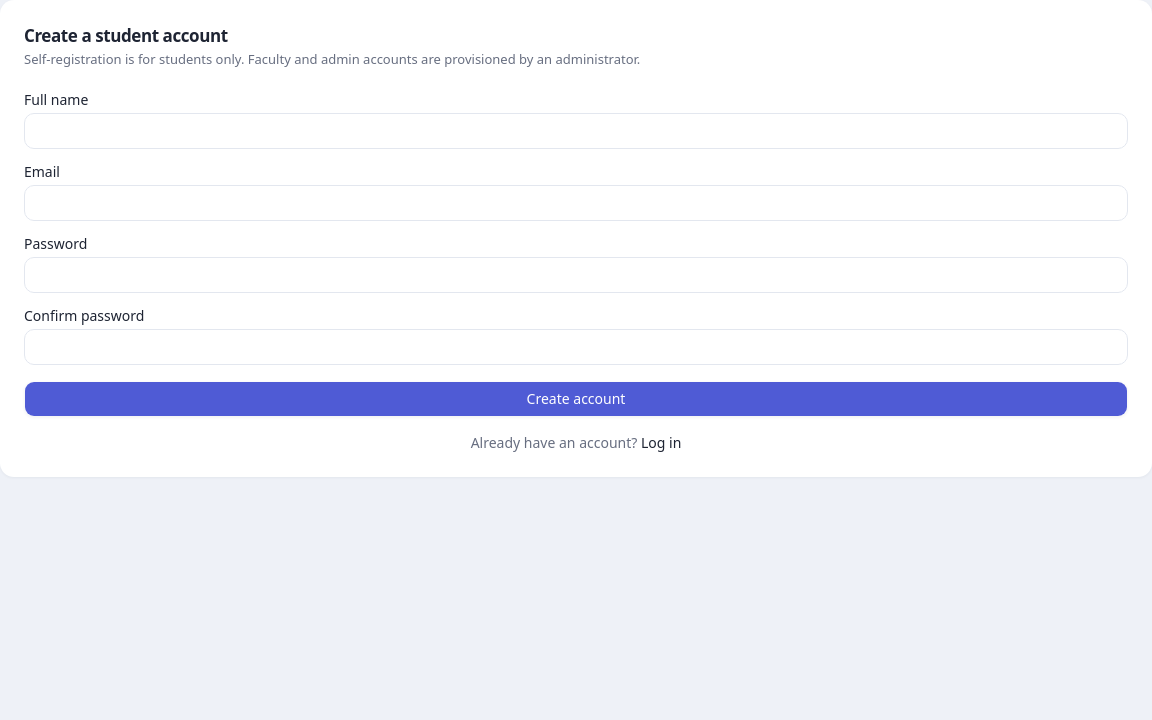
Test: RegisterPage form validation › rejects a mismatched confirm-password
This screenshot has width=1152, height=720.
Type "Ada Lovelace" into the field labelled "Full name".
click(576, 131); type("Ada Lovelace")  # box [24, 113, 1128, 149]
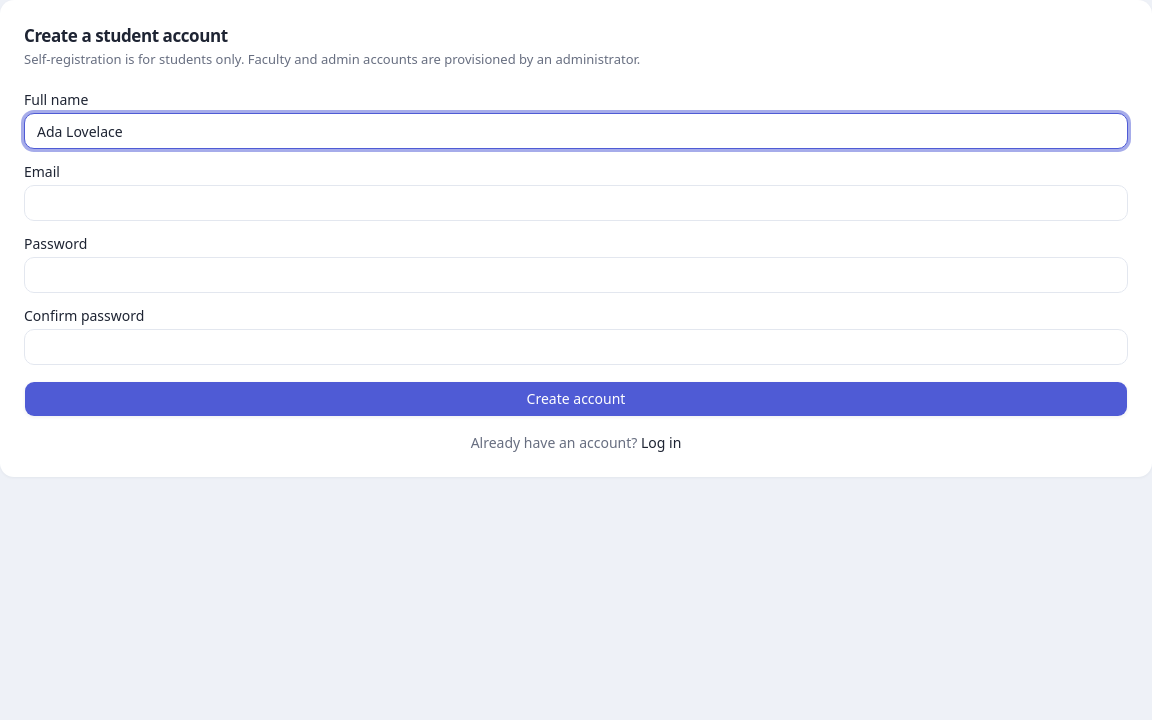
Type "ada@example.com" into the field labelled "Email".
click(576, 203); type("ada@example.com")  # box [24, 185, 1128, 221]
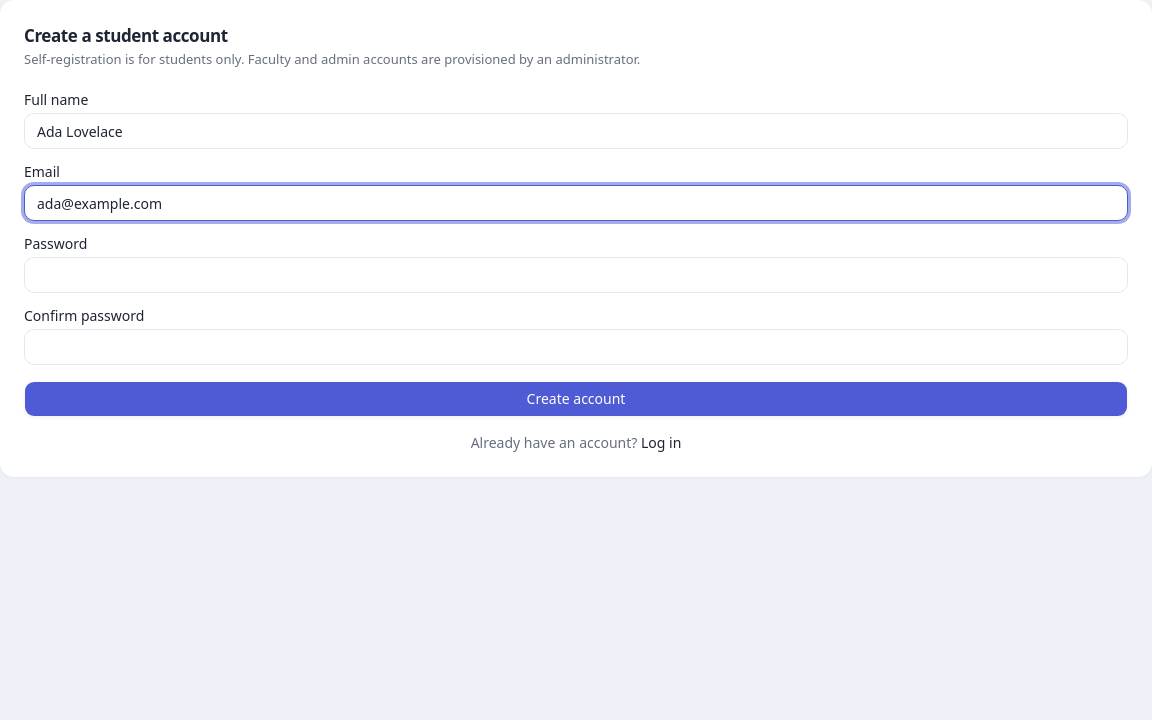
Type "password123" into the password field labelled "Password".
click(576, 275); type("password123")  # box [24, 257, 1128, 293]
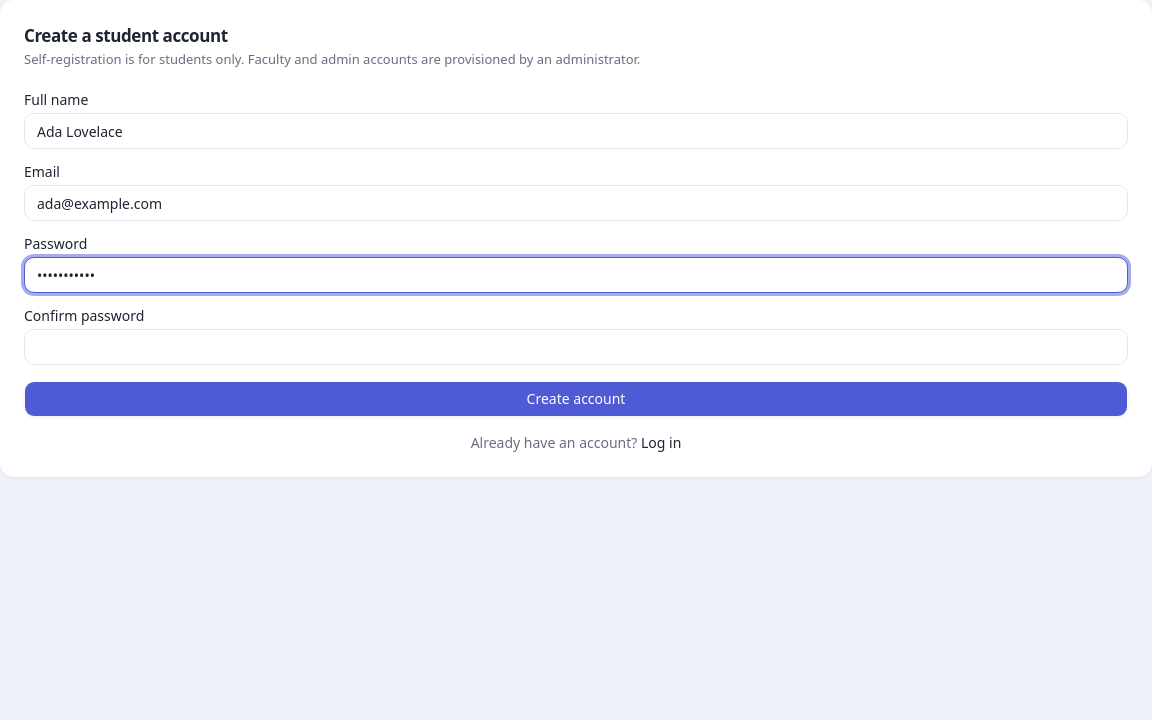
Type "password124" into the password field labelled "Confirm password".
click(576, 347); type("password124")  # box [24, 329, 1128, 365]
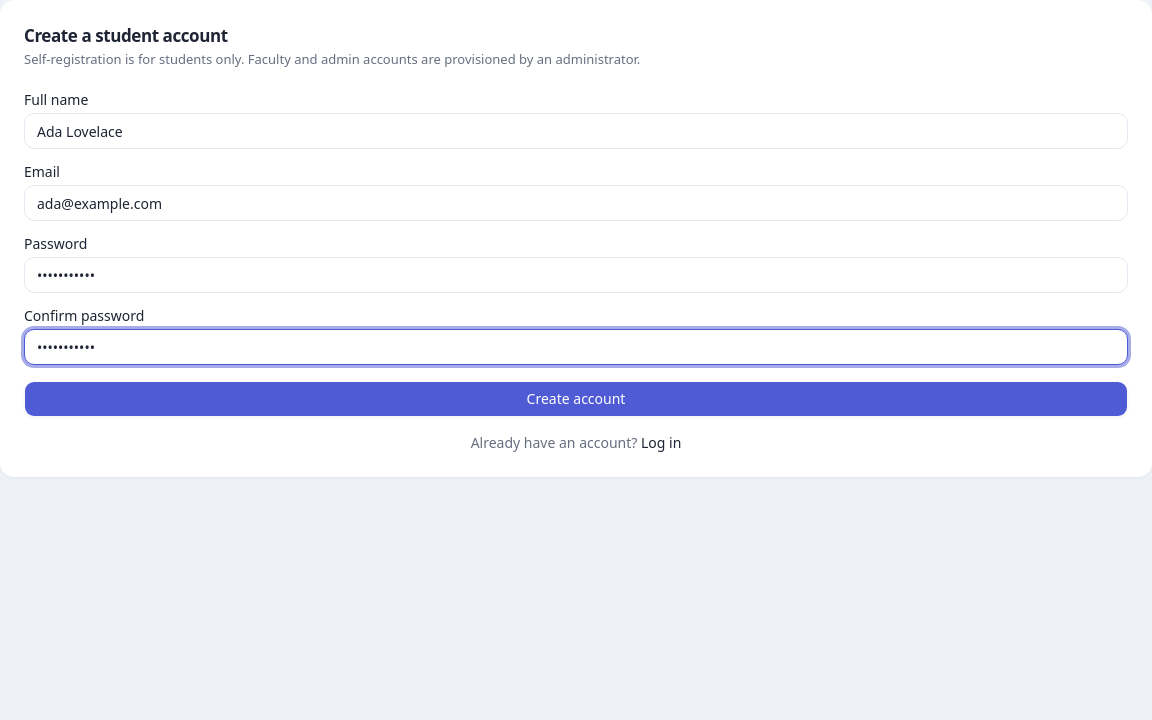
Click the button "Create account".
click(576, 399)  # box [24, 381, 1128, 417]
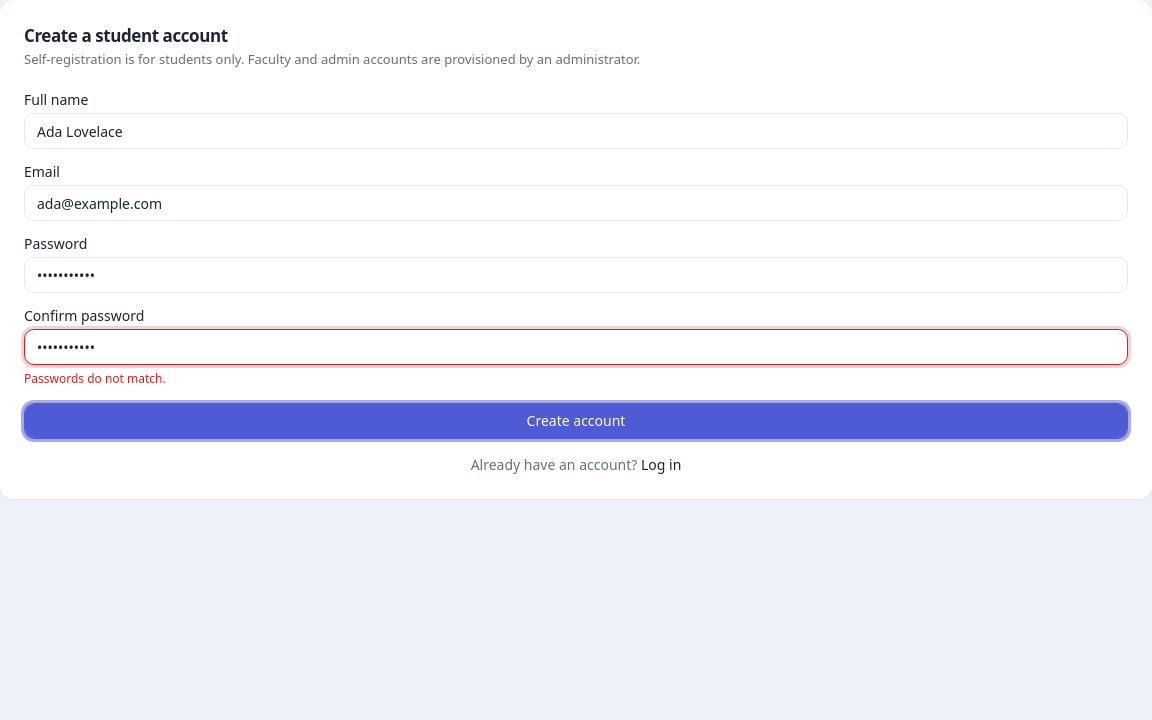
Expected: the text "Passwords do not match." is shown, [24, 370, 166, 387]
